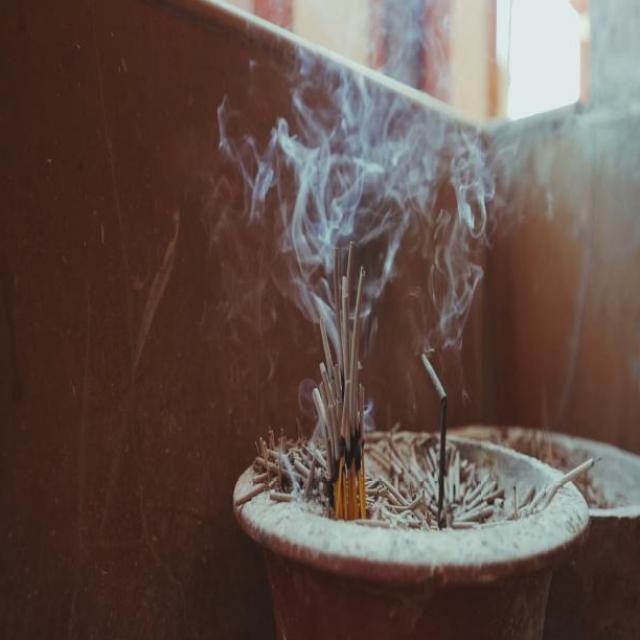fire: (215, 0, 508, 369)
